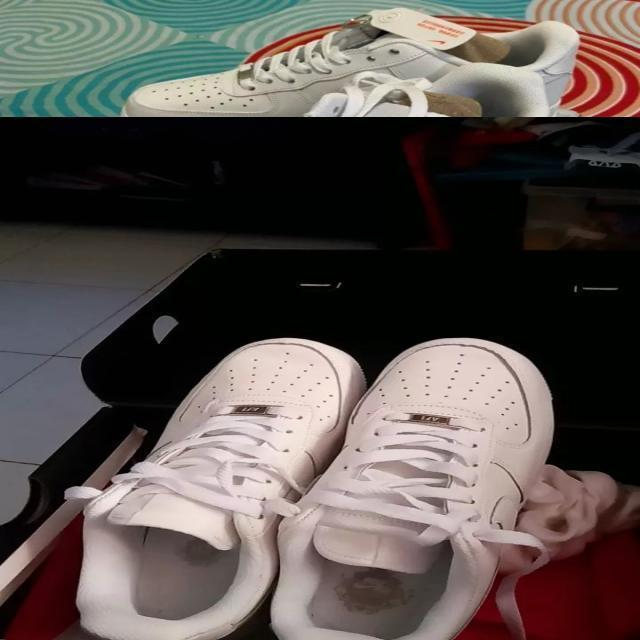nike fake air force: (66, 338, 366, 640), (263, 337, 560, 640)
